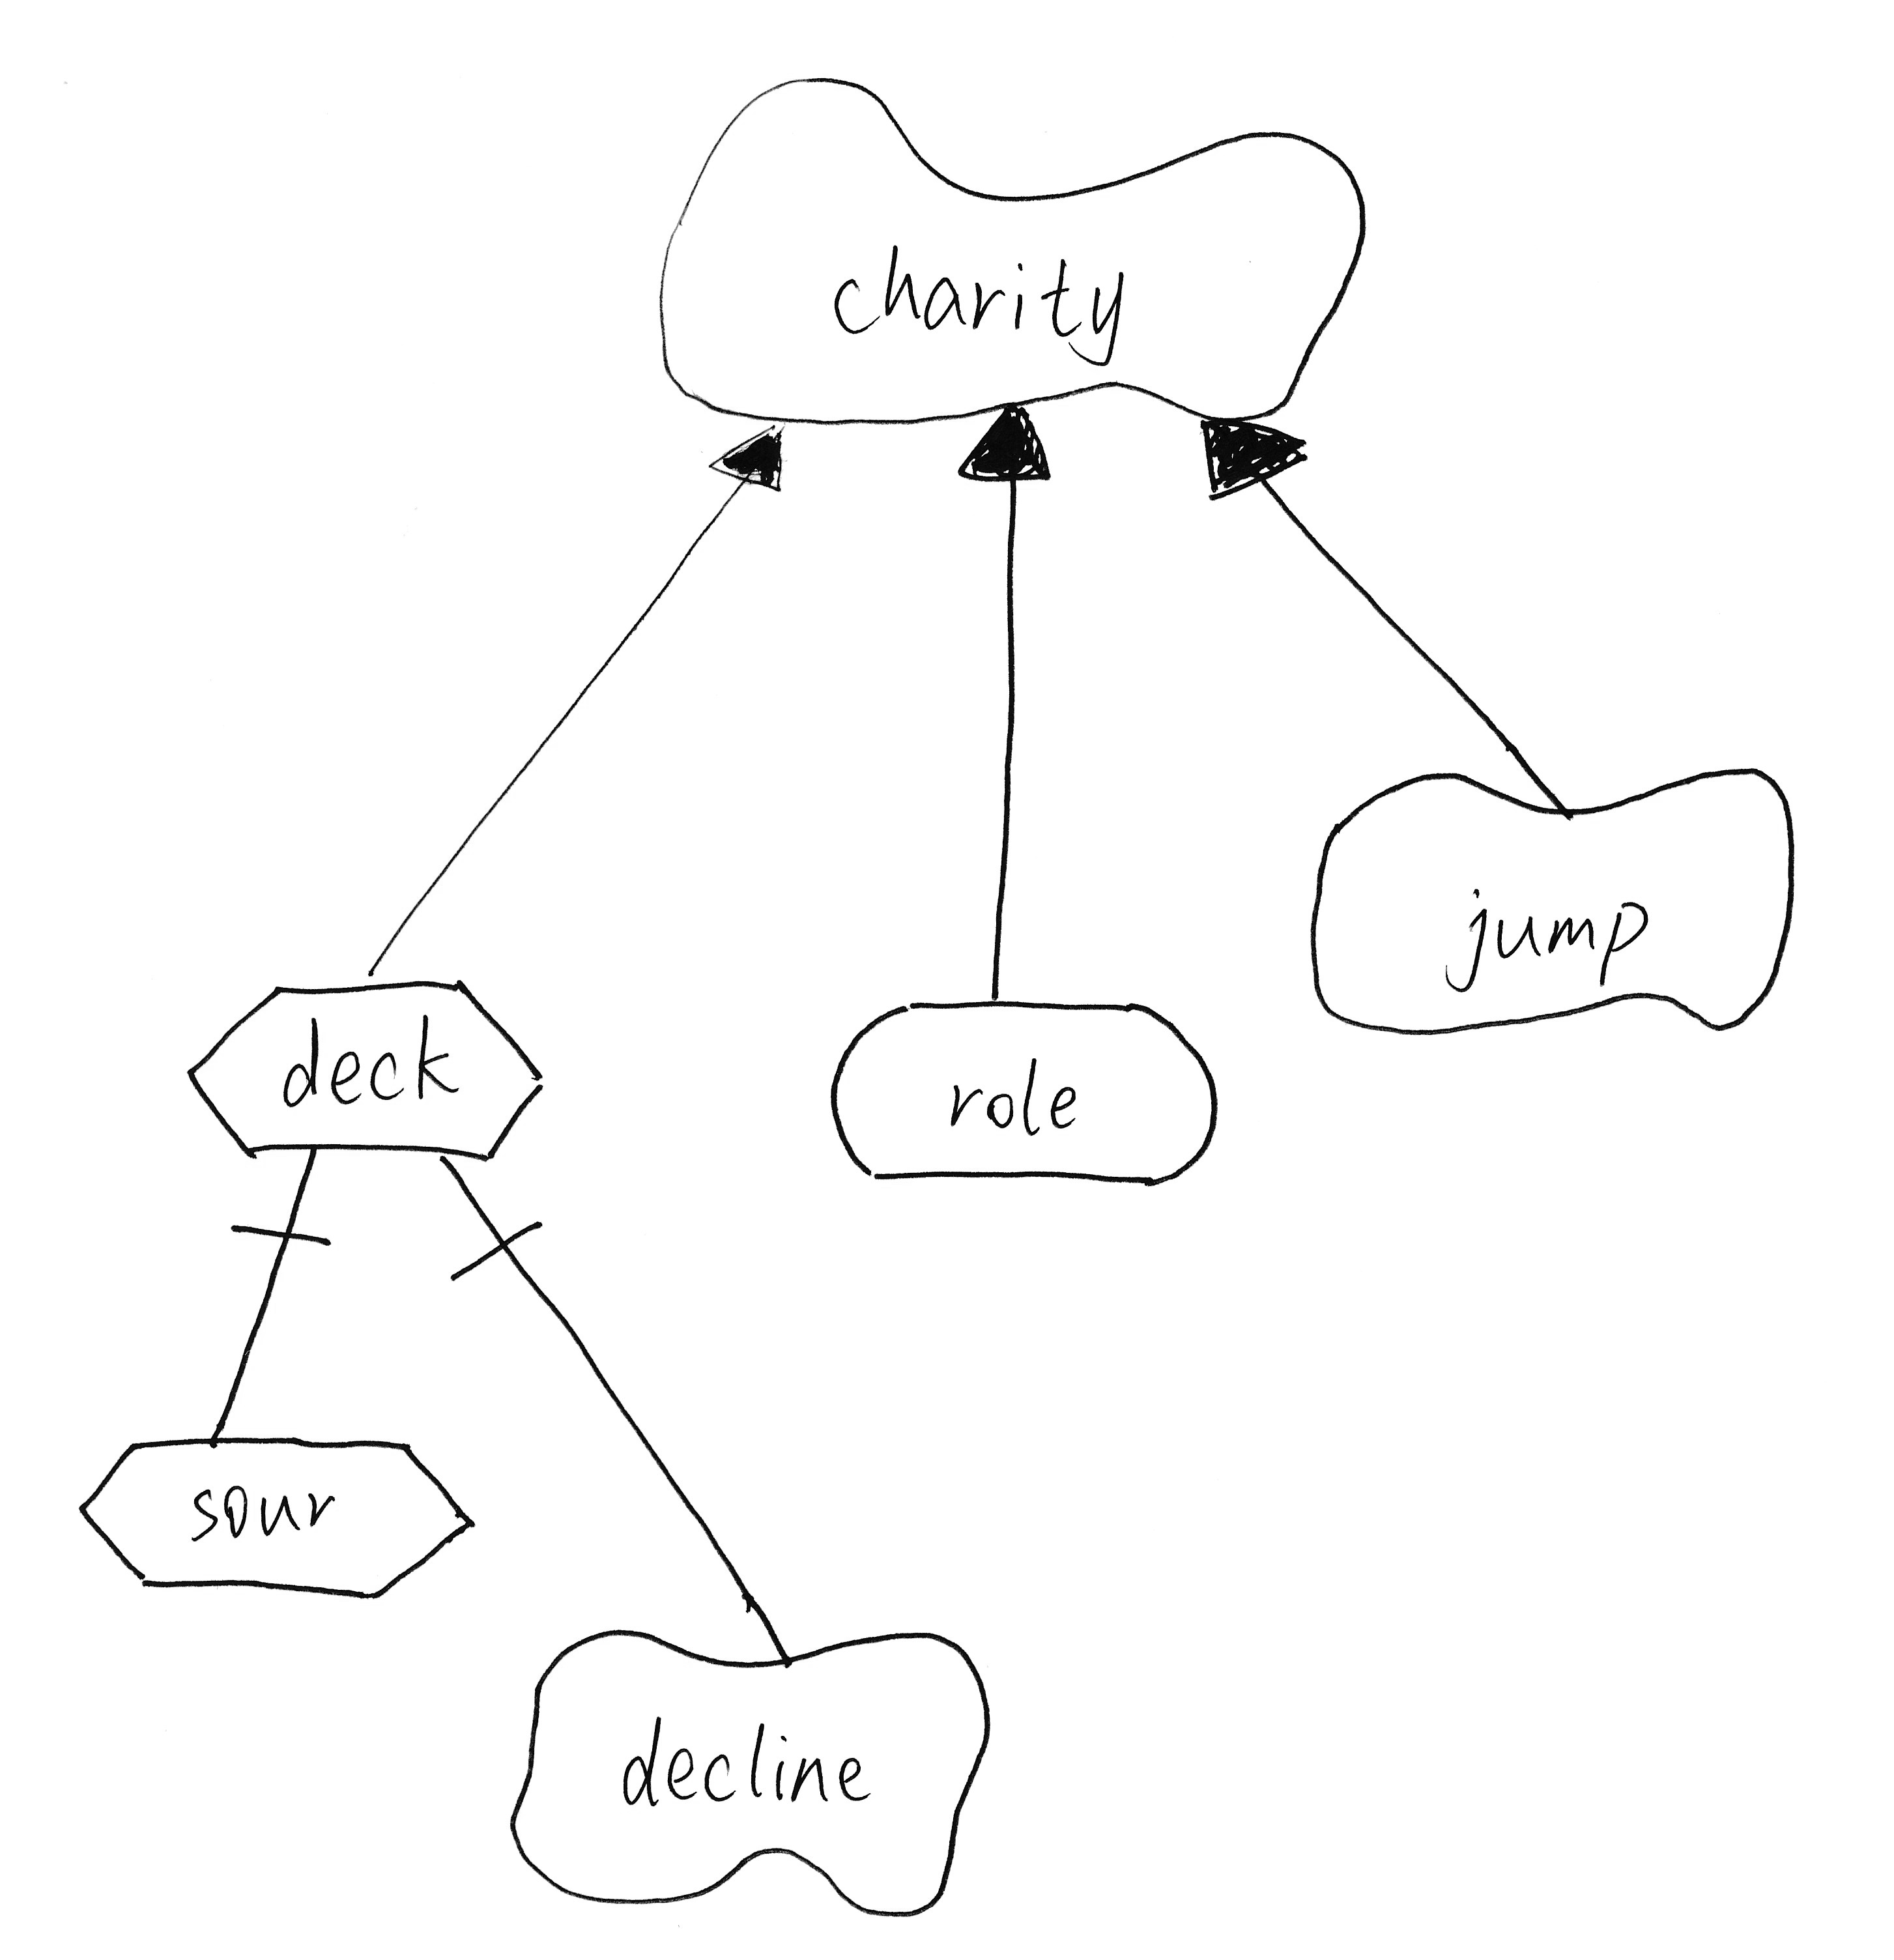and: (432, 1134, 550, 1297), (224, 1134, 338, 1269)
goal: (816, 983, 1239, 1200)
or: (1183, 402, 1318, 506), (945, 395, 1064, 499), (697, 413, 805, 511)
quality: (630, 56, 1388, 444), (494, 1608, 1015, 1934), (1285, 745, 1819, 1052)
task: (170, 964, 562, 1178), (61, 1419, 488, 1613)
